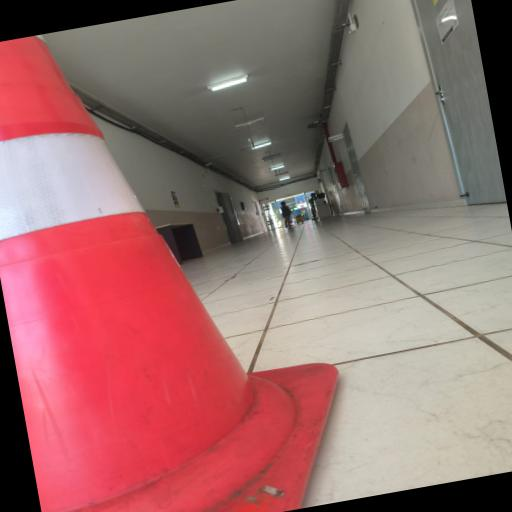cone: (0, 6, 272, 478)
